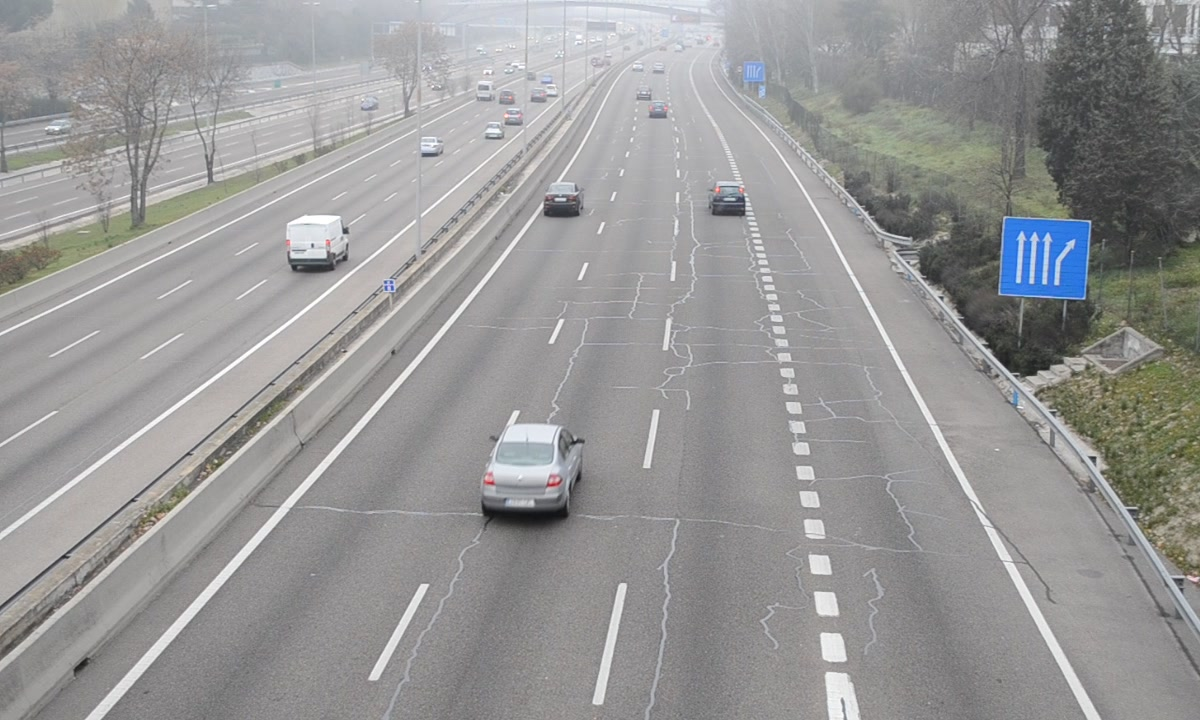car: (482, 425, 583, 515), (543, 181, 584, 215), (709, 181, 747, 215)
